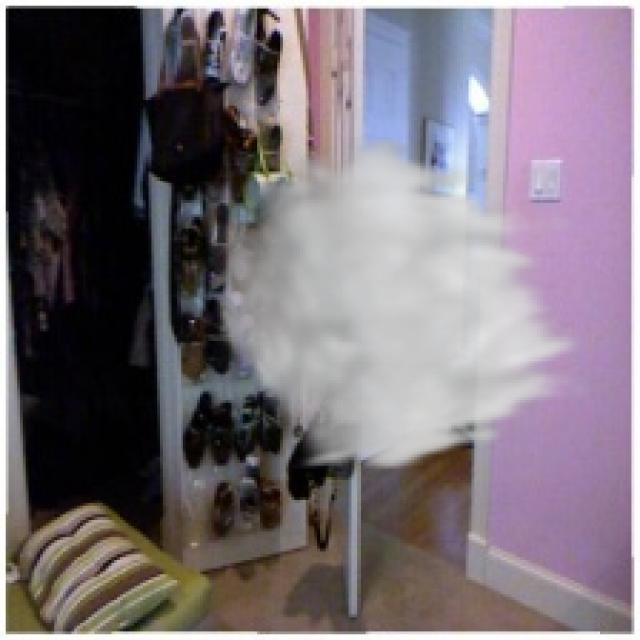smoke: (209, 132, 594, 474)
